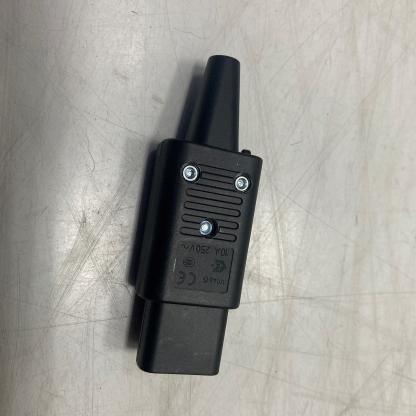SP0000006: (67, 20, 314, 408)
